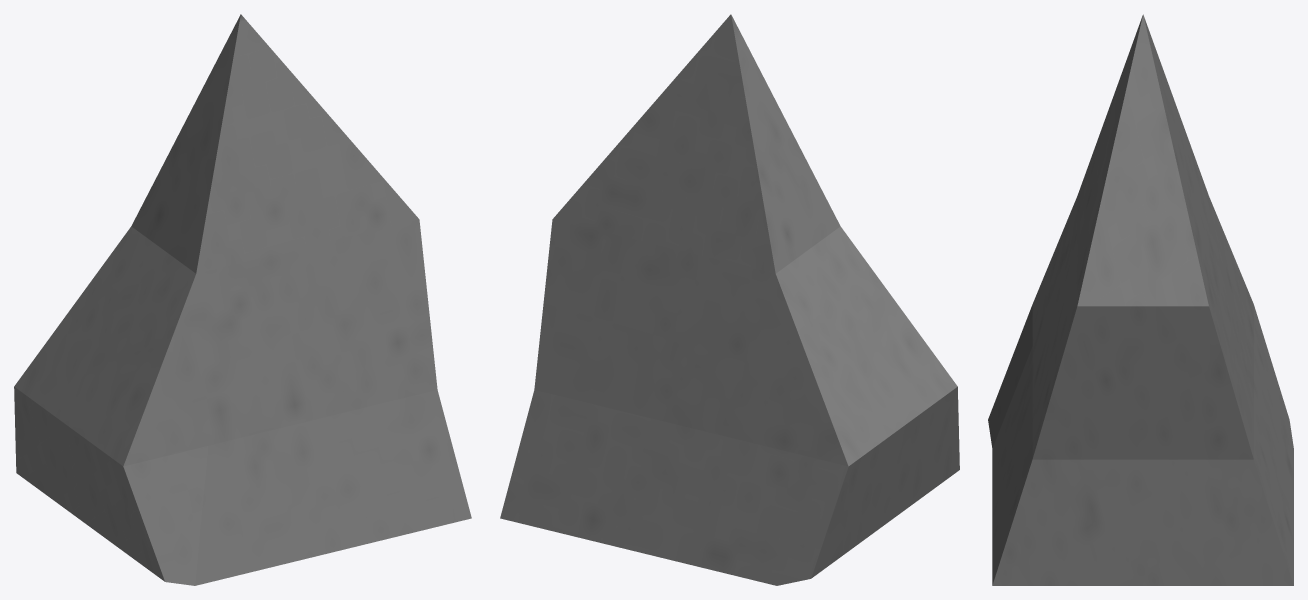
The model's file is Estataatatatatattat2.fbx.
3 views of the same model, side by side, from view 1: azimuth 30°, elevation 25°; view 2: azimuth 150°, elevation 25°; view 3: azimuth 270°, elevation 25° (orthographic).
Visible parts, largest first — view 1: Cube.003; view 2: Cube.003; view 3: Cube.003.
Part boxes in pixels (x1,y1,x2,y2): Cube.003: [14, 14, 471, 585]; Cube.003: [500, 14, 959, 585]; Cube.003: [988, 14, 1293, 585].
Bounding box in the file's own units: 26.4 × 37.46 × 21.
Materials: 1 (1 with a texture image).
